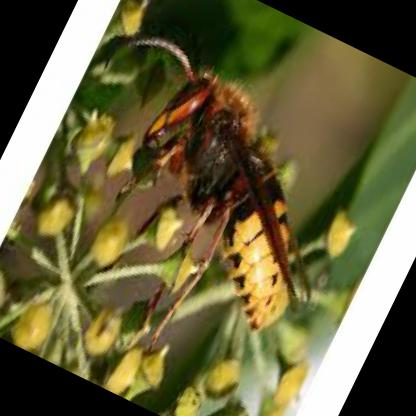european: (36, 26, 385, 380)
